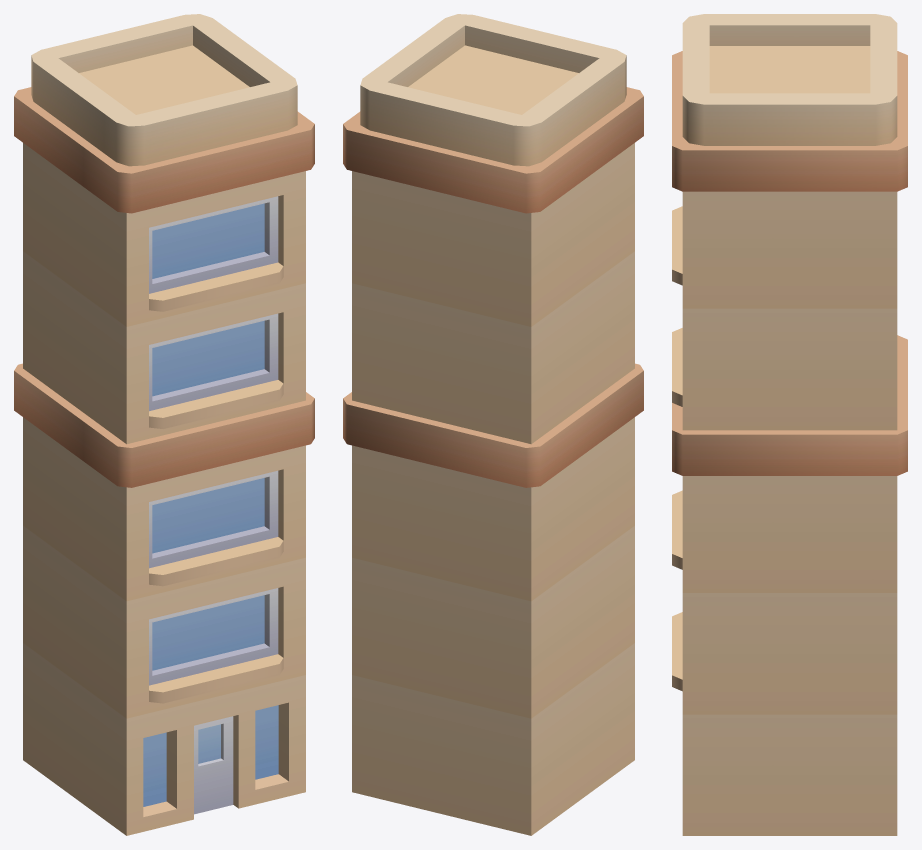
File: kenney-modular-buildings-building-sample-tower-d.glb
The picture shows the model from 3 angles, left to right: view 1: azimuth 30°, elevation 25°; view 2: azimuth 150°, elevation 25°; view 3: azimuth 270°, elevation 25°; orthographic projection. The views are drawn at different scales.
Visible parts, largest first — view 1: building-sample-tower-d; view 2: building-sample-tower-d; view 3: building-sample-tower-d.
Boxes of the visible parts, x1,y1,x2,y2 form: building-sample-tower-d: [14, 14, 314, 835]; building-sample-tower-d: [343, 14, 643, 835]; building-sample-tower-d: [672, 14, 907, 835].
Bounding box in the file's own units: 1.1 × 3.76 × 1.1.
1 material, 1 textured.
